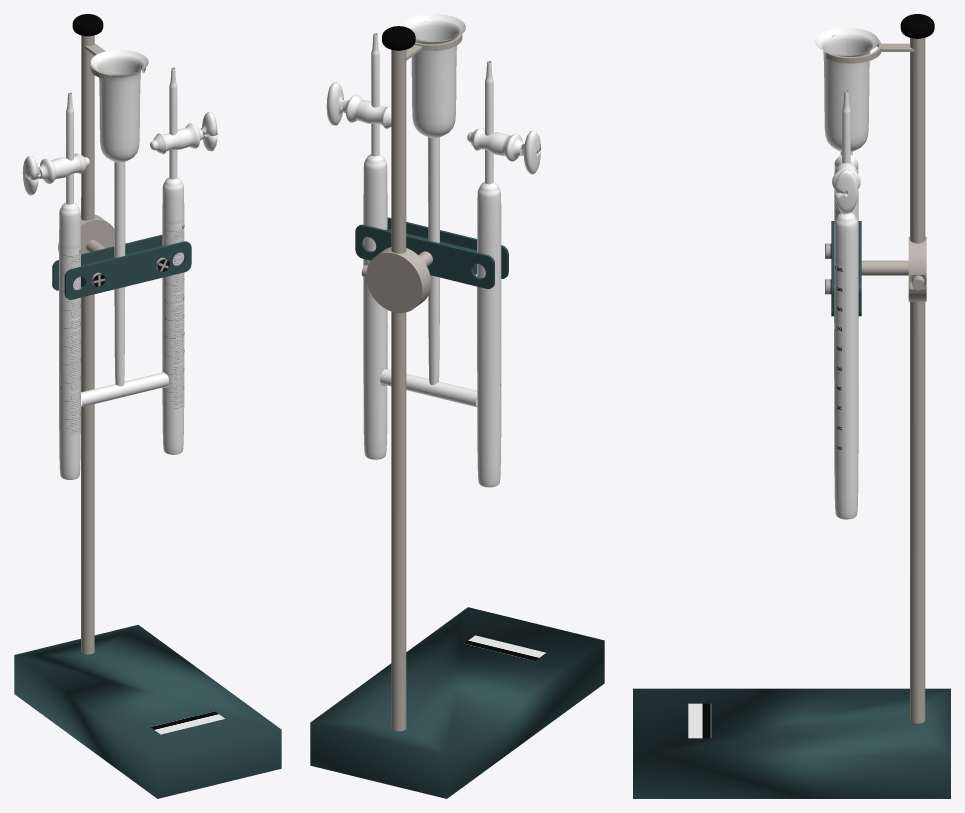
The model's file is Electrolysis.fbx.
3 views of the same model, side by side, from view 1: azimuth 30°, elevation 25°; view 2: azimuth 150°, elevation 25°; view 3: azimuth 270°, elevation 25° (orthographic). The views are drawn at different scales.
Parts seen in each view (by area): view 1: Body, StopCock_Left, StopCock_Right; view 2: Body, StopCock_Left, StopCock_Right; view 3: Body, StopCock_Right.
Boxes of the visible parts, bbox=[...] form: Body: bbox=[14, 14, 281, 798]; StopCock_Left: bbox=[22, 156, 40, 195]; StopCock_Right: bbox=[200, 112, 217, 151]; Body: bbox=[310, 14, 604, 798]; StopCock_Left: bbox=[521, 131, 540, 174]; StopCock_Right: bbox=[326, 82, 344, 125]; Body: bbox=[633, 14, 950, 798]; StopCock_Right: bbox=[834, 169, 858, 213].
Size of the model in its own units: 159 by 544 by 210.
